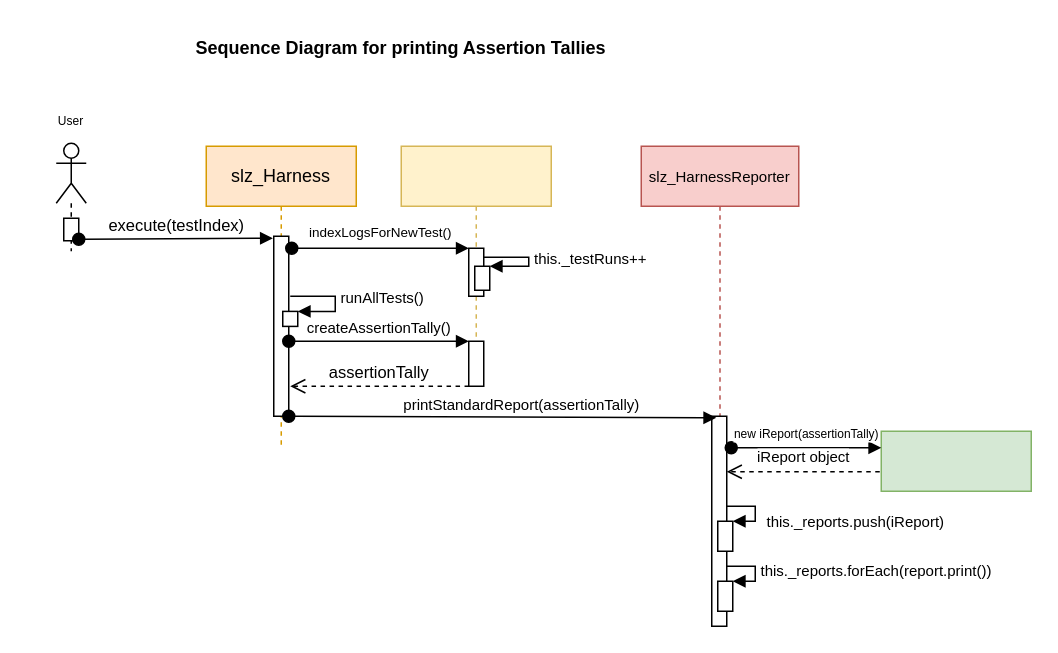
Image size: 1058x653. Some labels were removed from this diagram. The shapes that lost their labels are listed below. From the top down, each one's box as (x1, y1, x2, y2) in pixels, then its label:
(400, 145, 551, 386): slz_TestLogger
(880, 430, 1031, 491): iReport
